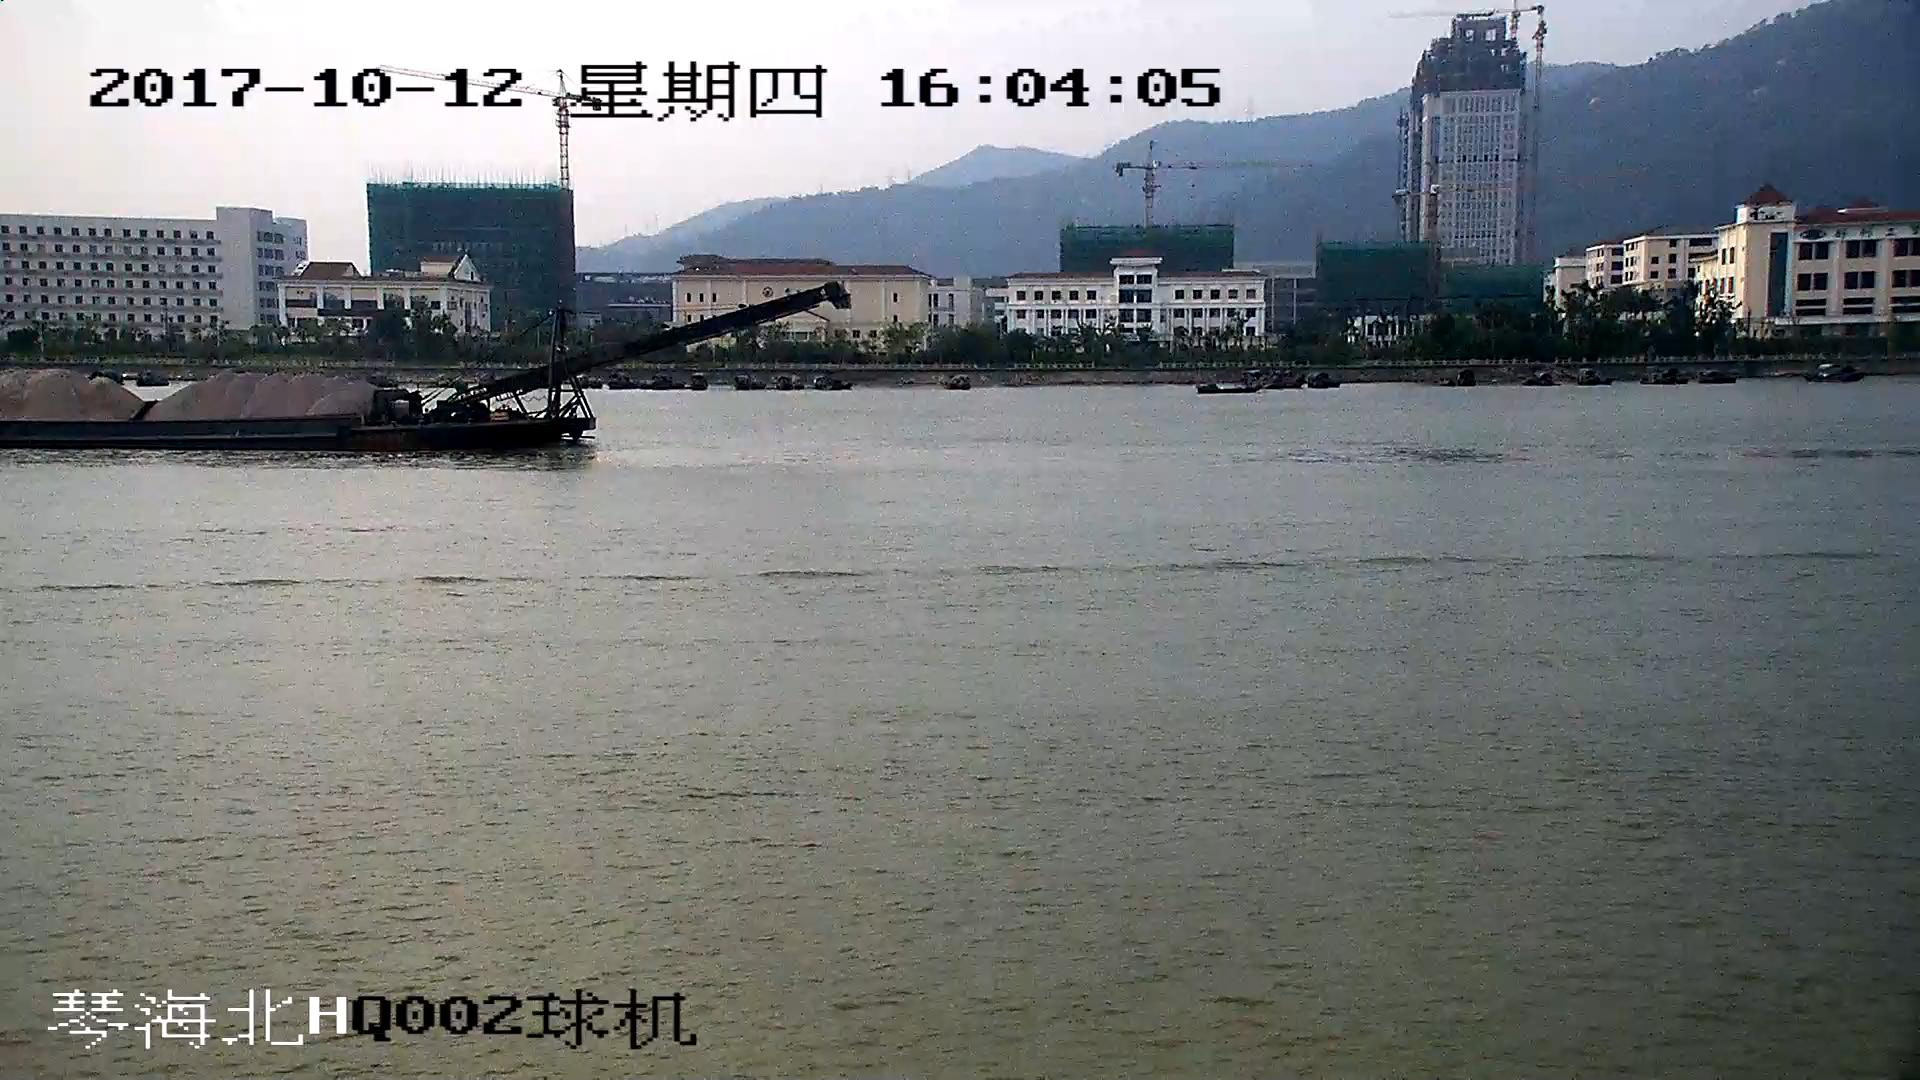ore carrier: (1, 288, 831, 450)
